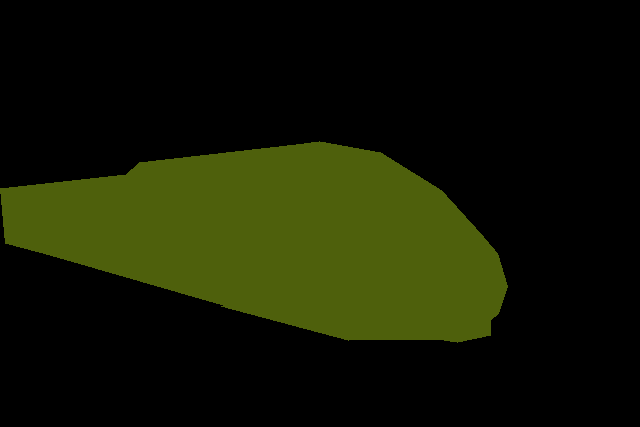Train: (0, 141, 507, 343)
